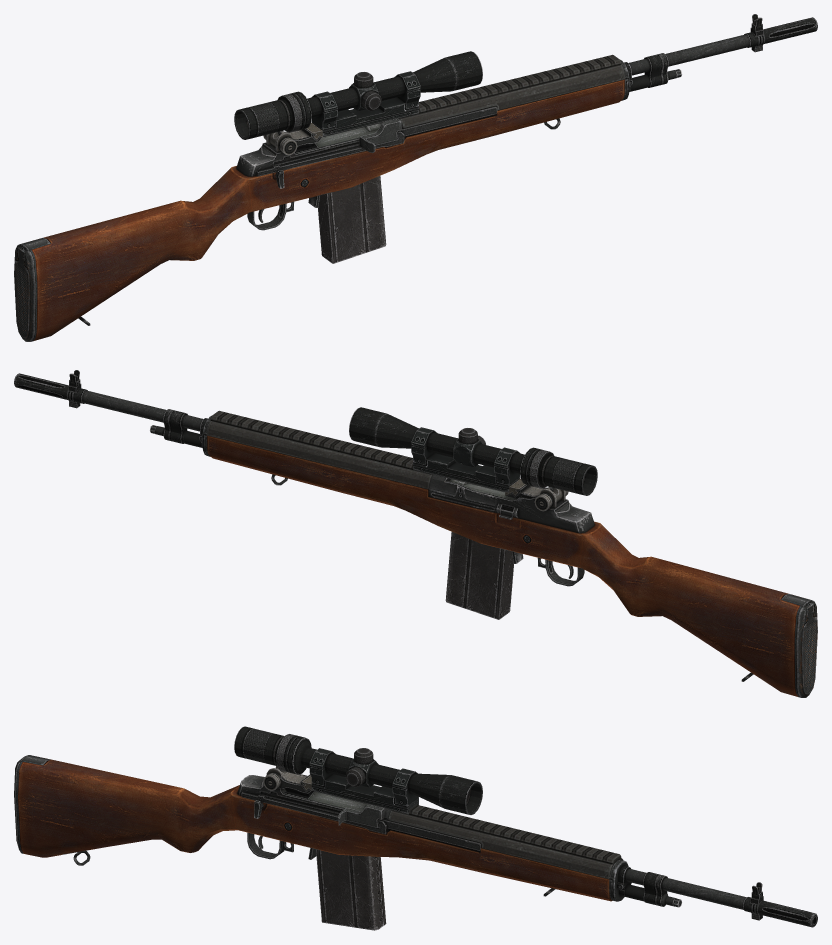
File: qiang4+danjia.FBX
The picture shows the model from 3 angles, top to bottom: view 1: azimuth 30°, elevation 25°; view 2: azimuth 150°, elevation 25°; view 3: azimuth 330°, elevation 25°; orthographic projection.
Visible parts, largest first — view 1: AssaultRifle08_Body01, qiang4-danjia; view 2: AssaultRifle08_Body01, qiang4-danjia; view 3: AssaultRifle08_Body01, qiang4-danjia.
Part boxes in pixels (bbox=[...]): AssaultRifle08_Body01: bbox=[14, 14, 817, 341]; qiang4-danjia: bbox=[318, 176, 386, 263]; AssaultRifle08_Body01: bbox=[14, 370, 817, 697]; qiang4-danjia: bbox=[445, 532, 513, 619]; AssaultRifle08_Body01: bbox=[14, 726, 817, 927]; qiang4-danjia: bbox=[316, 849, 386, 930].
Size of the model in its own units: 120 by 26.68 by 7.53.
